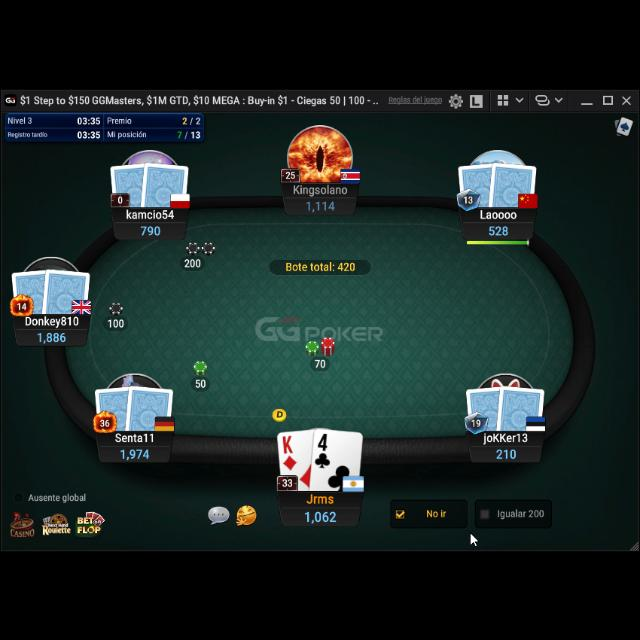4c: (314, 428, 332, 468)
Kd: (280, 431, 300, 469), (280, 432, 300, 468)
bet_text: (108, 314, 126, 326), (183, 256, 203, 266), (193, 374, 207, 388), (313, 356, 327, 366)
card_back: (488, 156, 540, 207), (495, 380, 547, 430), (140, 157, 190, 207), (124, 380, 174, 430), (42, 263, 92, 313), (456, 158, 500, 206), (93, 382, 135, 432), (10, 266, 54, 312), (110, 158, 152, 206), (464, 382, 506, 428)
dealer: (270, 404, 288, 421)
pot_text: (284, 257, 356, 271)
stack_text: (304, 504, 338, 522), (306, 195, 336, 209), (120, 443, 150, 457), (36, 328, 68, 340), (494, 444, 518, 458), (487, 220, 509, 234), (140, 220, 162, 234)
